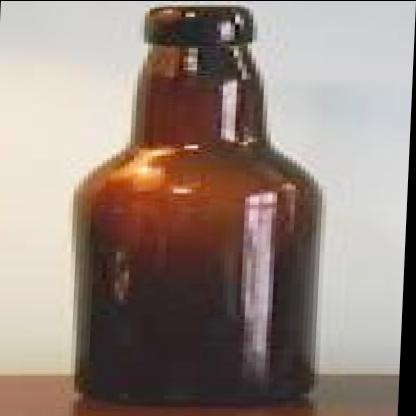trash: (75, 6, 320, 403)
